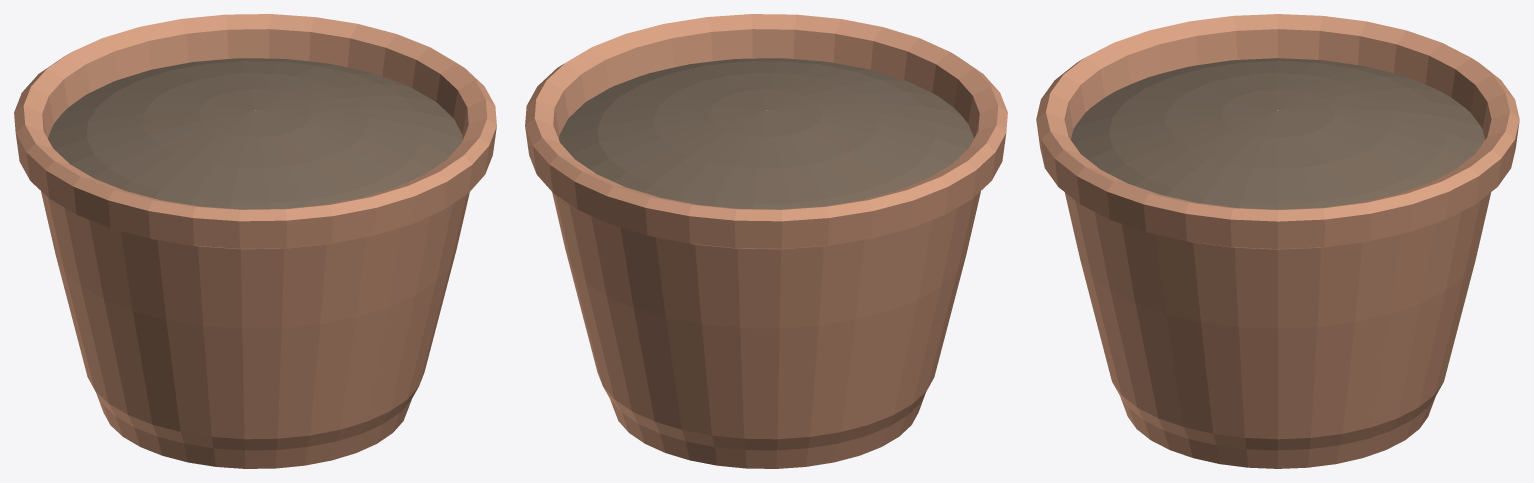
File: planter_pot.glb
The picture shows the model from 3 angles, left to right: view 1: azimuth 30°, elevation 25°; view 2: azimuth 150°, elevation 25°; view 3: azimuth 270°, elevation 25°; orthographic projection.
Visible parts, largest first — view 1: PlanterGroup; view 2: PlanterGroup; view 3: PlanterGroup.
Part boxes in pixels (x1,y1,x2,y2): PlanterGroup: (14,14,496,468); PlanterGroup: (525,14,1007,468); PlanterGroup: (1036,14,1519,468).
Size of the model in its own units: 0.6 by 0.402 by 0.6.
